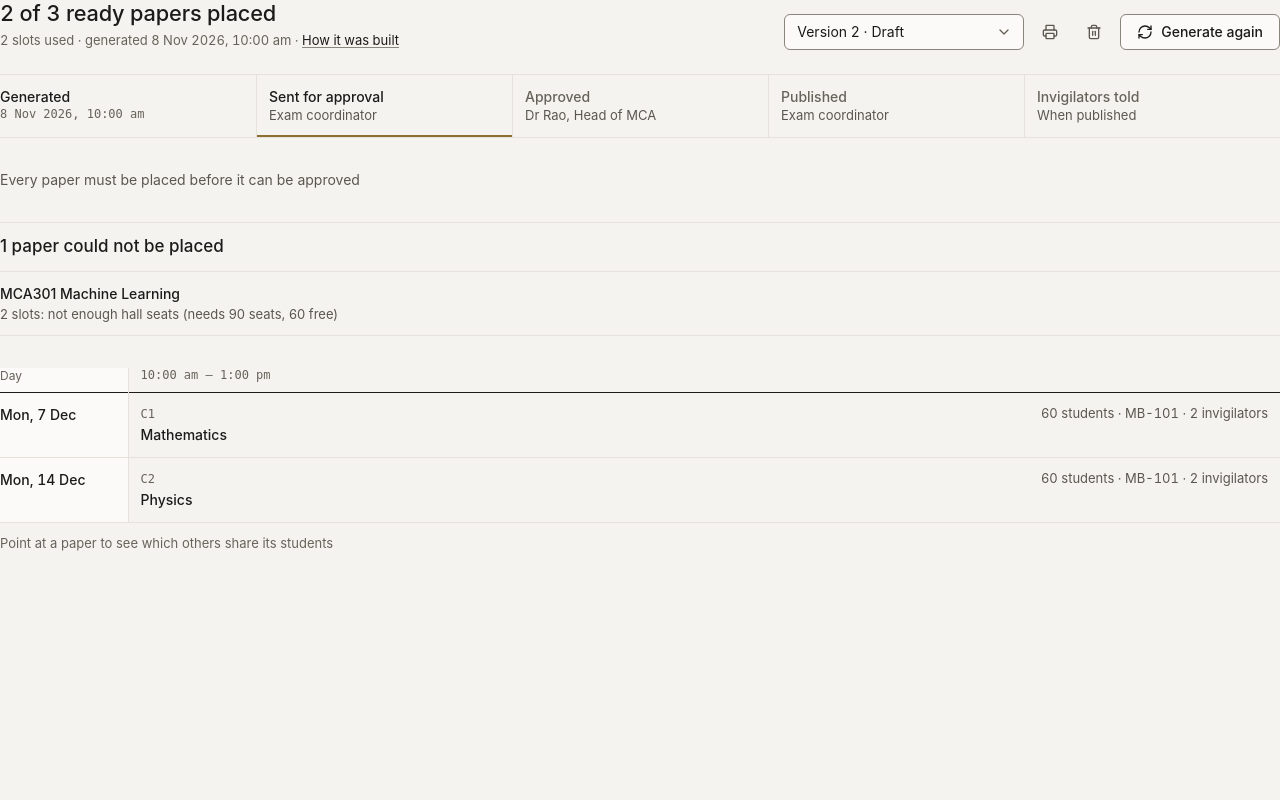
Test: Timetable › opens a paper to show its halls and the papers it must avoid
Click the button "C1 Mathematics 60 students · MB-101 · 2 invigilators". click: (184, 435)
box: [128, 393, 1279, 457]
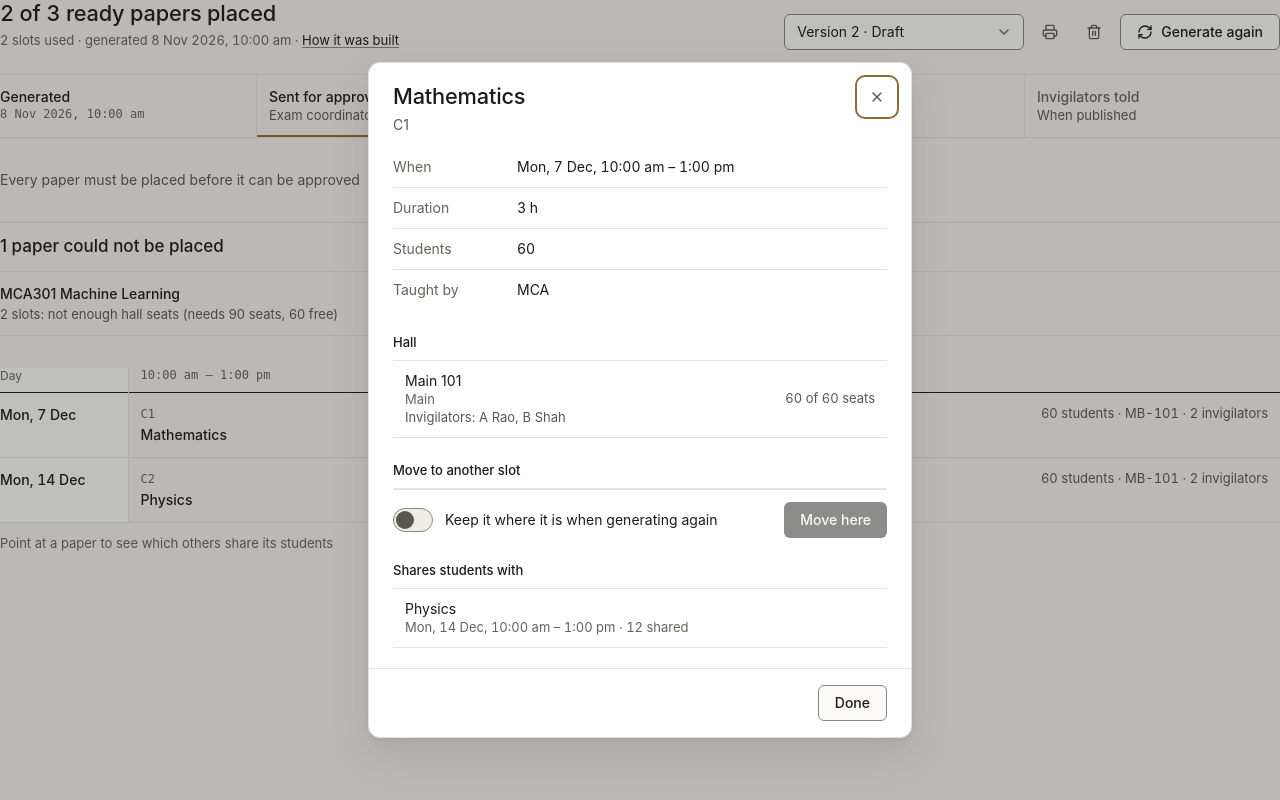
Check: the text "60 of 60 seats" is shown, box [785, 390, 875, 408]
Check: the heading "Shares students with" is shown, box [393, 562, 523, 578]
Check: the text "Physics" is shown, box [405, 600, 456, 617]
